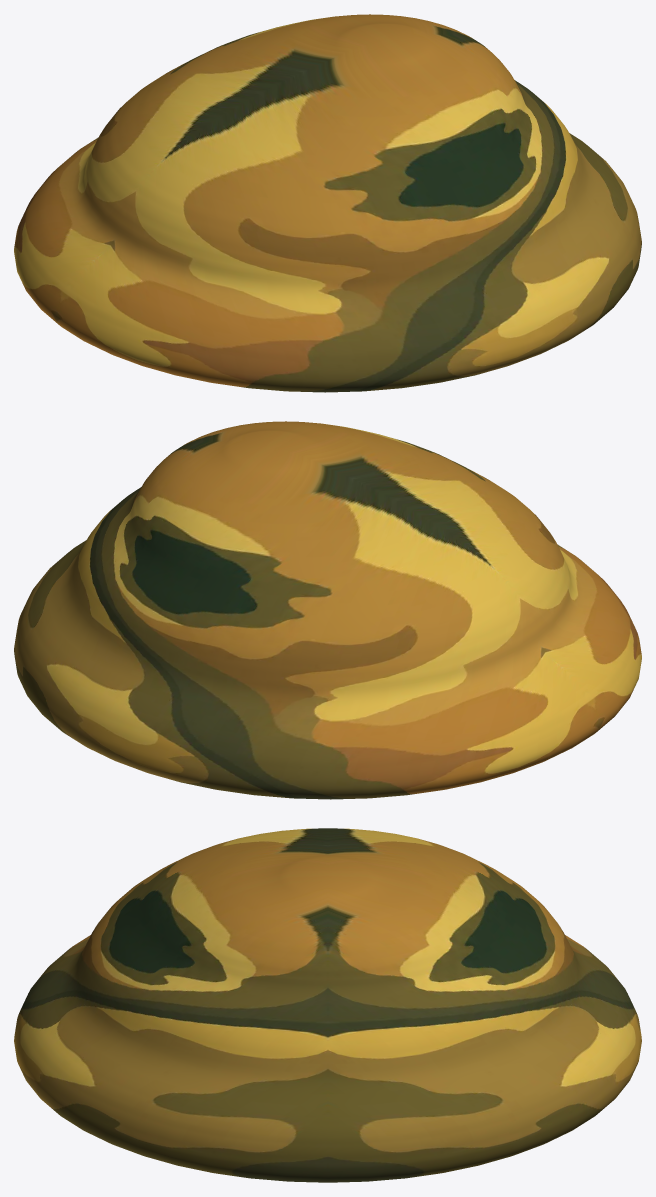
The model's file is hollow_mound.glb.
3 renders of one model, top to bottom at view 1: azimuth 30°, elevation 25°; view 2: azimuth 150°, elevation 25°; view 3: azimuth 270°, elevation 25°, orthographic.
Parts seen in each view (by area): view 1: hollow_mound; view 2: hollow_mound; view 3: hollow_mound.
Part boxes in pixels (<box>): hollow_mound: <box>14,14,641,392</box>; hollow_mound: <box>14,421,641,799</box>; hollow_mound: <box>14,828,641,1182</box>.
Size of the model in its own units: 0.9987 by 0.4114 by 0.9974.
Materials: 1 (1 with a texture image).
